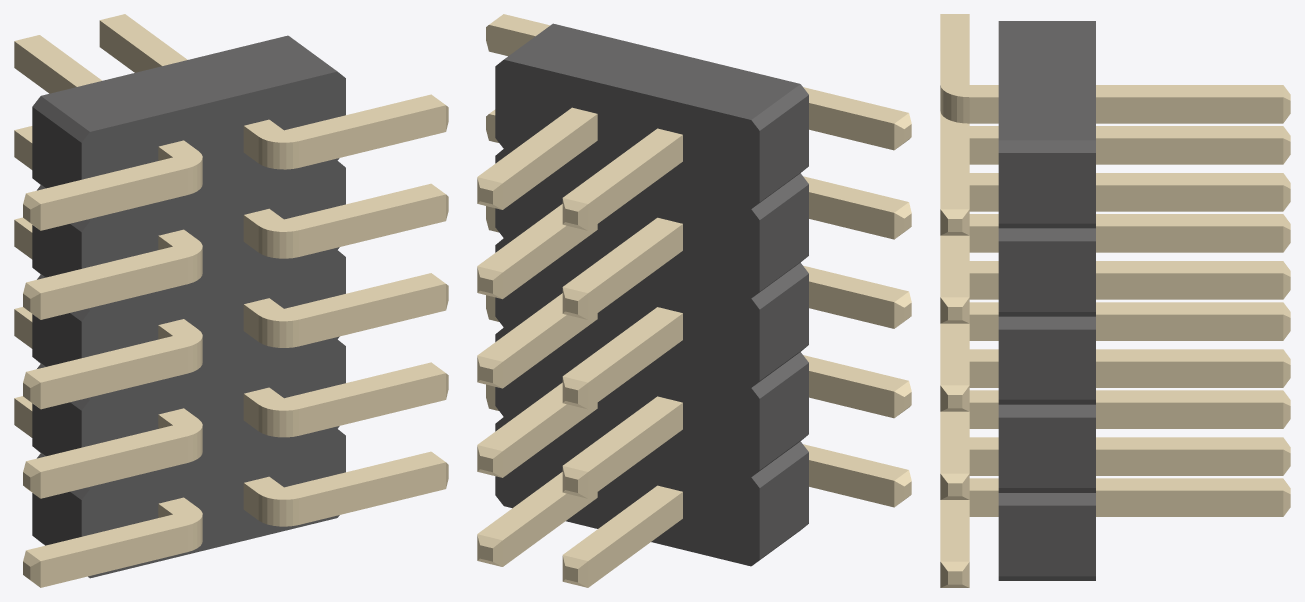
The model's file is PinHeader_2x05_P1.00mm_Vertical_SMD.glb.
3 renders of one model, left to right at view 1: azimuth 30°, elevation 25°; view 2: azimuth 150°, elevation 25°; view 3: azimuth 270°, elevation 25°, orthographic.
Visible parts, largest first — view 1: Shape_IndexedFaceSet.003, Shape_IndexedFaceSet.001, Shape_IndexedFaceSet.122, Shape_IndexedFaceSet.157, Shape_IndexedFaceSet.142, Shape_IndexedFaceSet.127, Shape_IndexedFaceSet.147, Shape_IndexedFaceSet.117, Shape_IndexedFaceSet.137, Shape_IndexedFaceSet.132, Shape_IndexedFaceSet.162, Shape_IndexedFaceSet.152 (+25 smaller); view 2: Shape_IndexedFaceSet.004, Shape_IndexedFaceSet.001, Shape_IndexedFaceSet.031, Shape_IndexedFaceSet.007, Shape_IndexedFaceSet.013, Shape_IndexedFaceSet.025, Shape_IndexedFaceSet.019, Shape_IndexedFaceSet.112, Shape_IndexedFaceSet.081, Shape_IndexedFaceSet.084, Shape_IndexedFaceSet.101, Shape_IndexedFaceSet.108 (+32 smaller); view 3: Shape_IndexedFaceSet.001, Shape_IndexedFaceSet.028, Shape_IndexedFaceSet.002, Shape_IndexedFaceSet.010, Shape_IndexedFaceSet.016, Shape_IndexedFaceSet.022, Shape_IndexedFaceSet.093, Shape_IndexedFaceSet.094, Shape_IndexedFaceSet.099, Shape_IndexedFaceSet.106, Shape_IndexedFaceSet.110, Shape_IndexedFaceSet.077 (+42 smaller).
Boxes of the visible parts, bbox=[...] form: Shape_IndexedFaceSet.003: bbox=[81, 71, 345, 578]; Shape_IndexedFaceSet.001: bbox=[41, 35, 337, 131]; Shape_IndexedFaceSet.122: bbox=[40, 436, 187, 498]; Shape_IndexedFaceSet.157: bbox=[40, 168, 187, 230]; Shape_IndexedFaceSet.142: bbox=[40, 257, 187, 319]; Shape_IndexedFaceSet.127: bbox=[40, 525, 187, 587]; Shape_IndexedFaceSet.147: bbox=[40, 347, 187, 409]; Shape_IndexedFaceSet.117: bbox=[299, 373, 445, 435]; Shape_IndexedFaceSet.137: bbox=[299, 194, 445, 256]; Shape_IndexedFaceSet.132: bbox=[299, 462, 445, 524]; Shape_IndexedFaceSet.162: bbox=[299, 105, 445, 167]; Shape_IndexedFaceSet.152: bbox=[299, 284, 445, 346]; Shape_IndexedFaceSet.004: bbox=[495, 60, 759, 566]; Shape_IndexedFaceSet.001: bbox=[504, 23, 799, 119]; Shape_IndexedFaceSet.031: bbox=[759, 452, 808, 559]; Shape_IndexedFaceSet.007: bbox=[759, 95, 808, 201]; Shape_IndexedFaceSet.013: bbox=[759, 184, 808, 291]; Shape_IndexedFaceSet.025: bbox=[759, 363, 808, 469]; Shape_IndexedFaceSet.019: bbox=[759, 274, 808, 380]; Shape_IndexedFaceSet.112: bbox=[502, 114, 597, 209]; Shape_IndexedFaceSet.081: bbox=[588, 403, 682, 498]; Shape_IndexedFaceSet.084: bbox=[588, 492, 682, 587]; Shape_IndexedFaceSet.101: bbox=[588, 313, 682, 408]; Shape_IndexedFaceSet.108: bbox=[588, 135, 682, 230]; Shape_IndexedFaceSet.001: bbox=[998, 21, 1095, 140]; Shape_IndexedFaceSet.028: bbox=[998, 505, 1095, 576]; Shape_IndexedFaceSet.002: bbox=[998, 153, 1095, 223]; Shape_IndexedFaceSet.010: bbox=[998, 241, 1095, 311]; Shape_IndexedFaceSet.016: bbox=[998, 329, 1095, 399]; Shape_IndexedFaceSet.022: bbox=[998, 417, 1095, 487]; Shape_IndexedFaceSet.093: bbox=[1096, 226, 1283, 252]; Shape_IndexedFaceSet.094: bbox=[1096, 185, 1283, 211]; Shape_IndexedFaceSet.099: bbox=[1096, 273, 1283, 299]; Shape_IndexedFaceSet.106: bbox=[1096, 97, 1283, 123]; Shape_IndexedFaceSet.110: bbox=[1096, 138, 1283, 164]; Shape_IndexedFaceSet.077: bbox=[1096, 402, 1283, 428].
Size of the model in its own units: 1.93 by 1.97 by 1.42.
